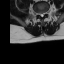CCS_normal: (41, 11, 43, 19)
LFS_normal: (44, 10, 46, 15)
LLS_normal: (43, 11, 44, 17)
RFS_stenosis: (37, 11, 39, 16)
RLS_normal: (39, 11, 41, 17)
